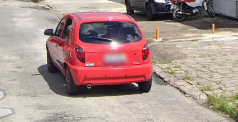car: (43, 9, 156, 95)
